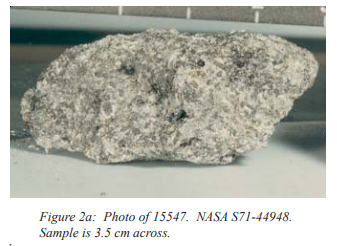Basalt: (38, 21, 320, 174)
